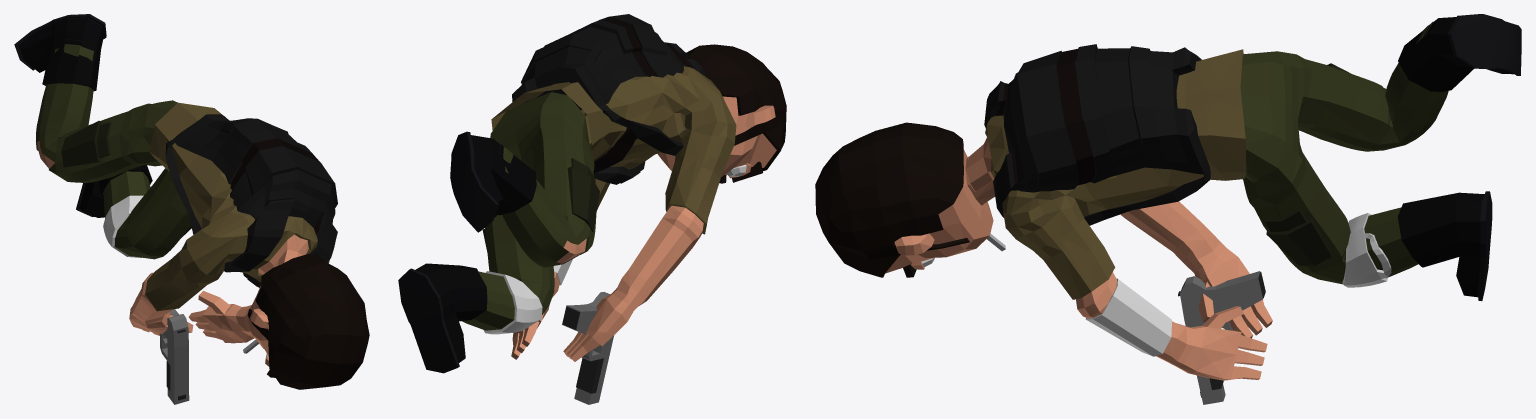
File: frame_0040.obj
3 views of the same model, side by side, from view 1: azimuth 30°, elevation 25°; view 2: azimuth 150°, elevation 25°; view 3: azimuth 270°, elevation 25° (orthographic). The views are drawn at different scales.
Parts seen in each view (by area): view 1: Body, Gun; view 2: Body, Gun; view 3: Body, Gun.
Boxes of the visible parts, box(x1,y1,x2,y2) form: Body: box(14, 14, 369, 389); Gun: box(160, 309, 189, 404); Body: box(398, 14, 786, 373); Gun: box(562, 292, 613, 404); Body: box(815, 14, 1521, 380); Gun: box(1178, 271, 1265, 404).
Size of the model in its own units: 1.25 by 2.3 by 3.74.
